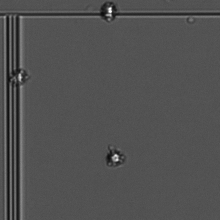Living Cell: (103, 142, 130, 174), (97, 2, 118, 30), (9, 64, 30, 86)
